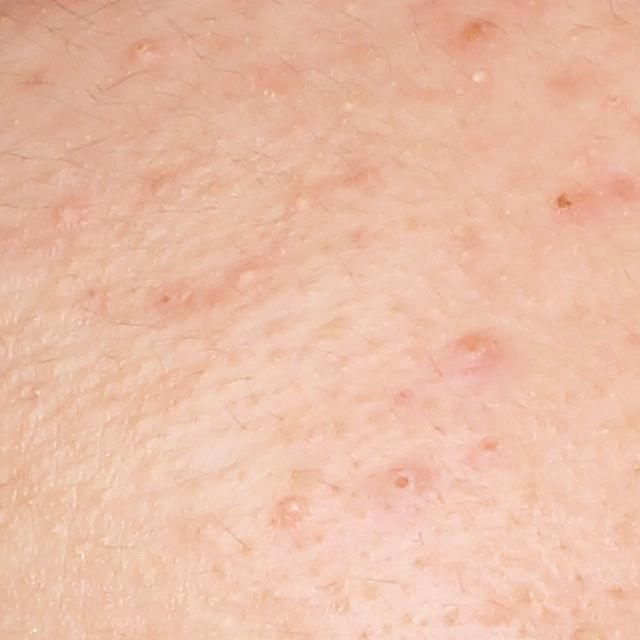comedo: (472, 430, 513, 463), (383, 465, 419, 499), (272, 497, 308, 530), (232, 260, 263, 287), (293, 191, 313, 217)
papule: (455, 327, 496, 376)
